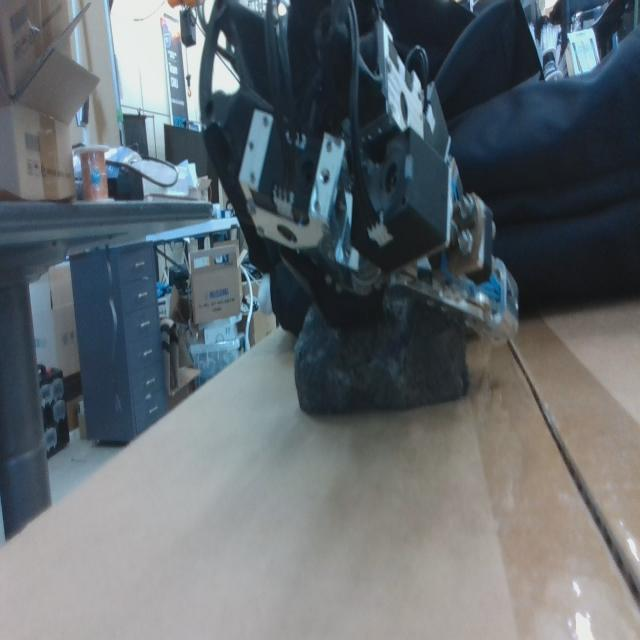stone: (293, 298, 471, 419)
